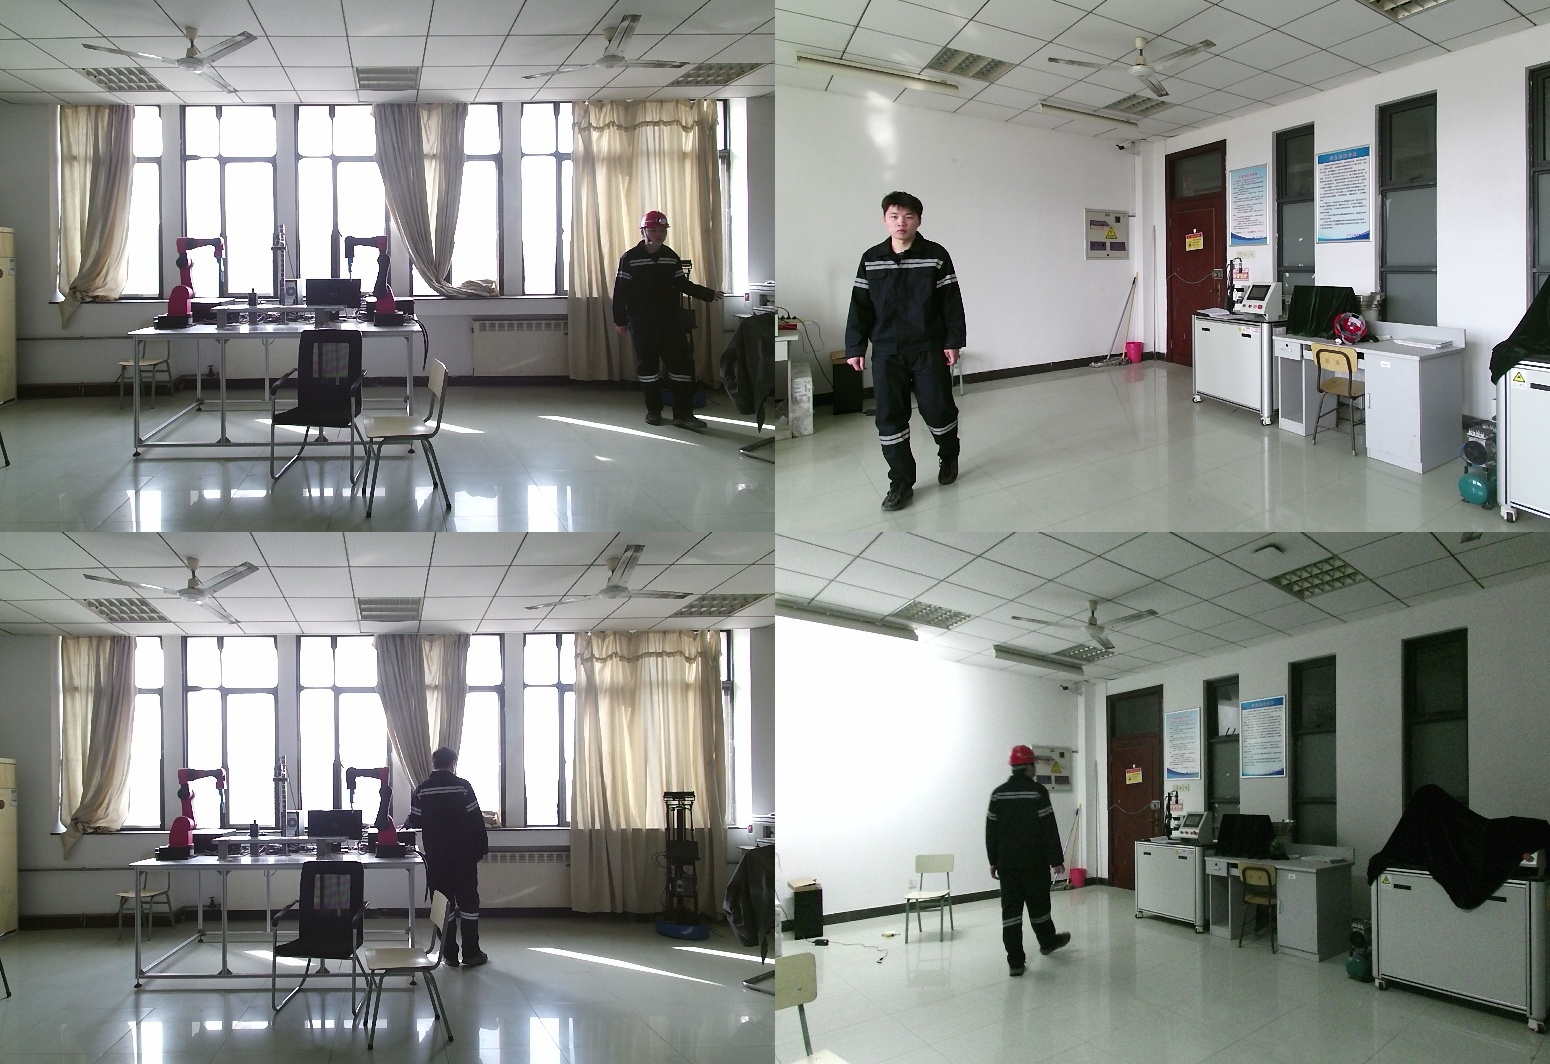person: (845, 194, 969, 512), (976, 744, 1073, 979), (613, 213, 716, 426), (403, 746, 495, 969)
